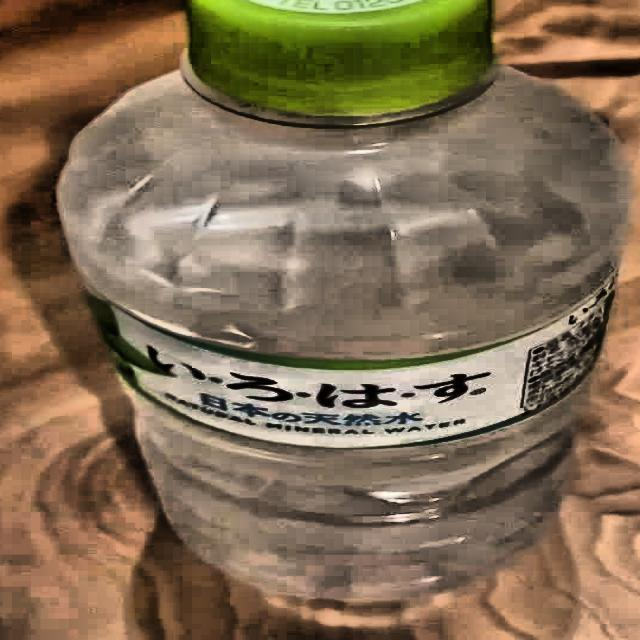plastic: (49, 0, 629, 608)
